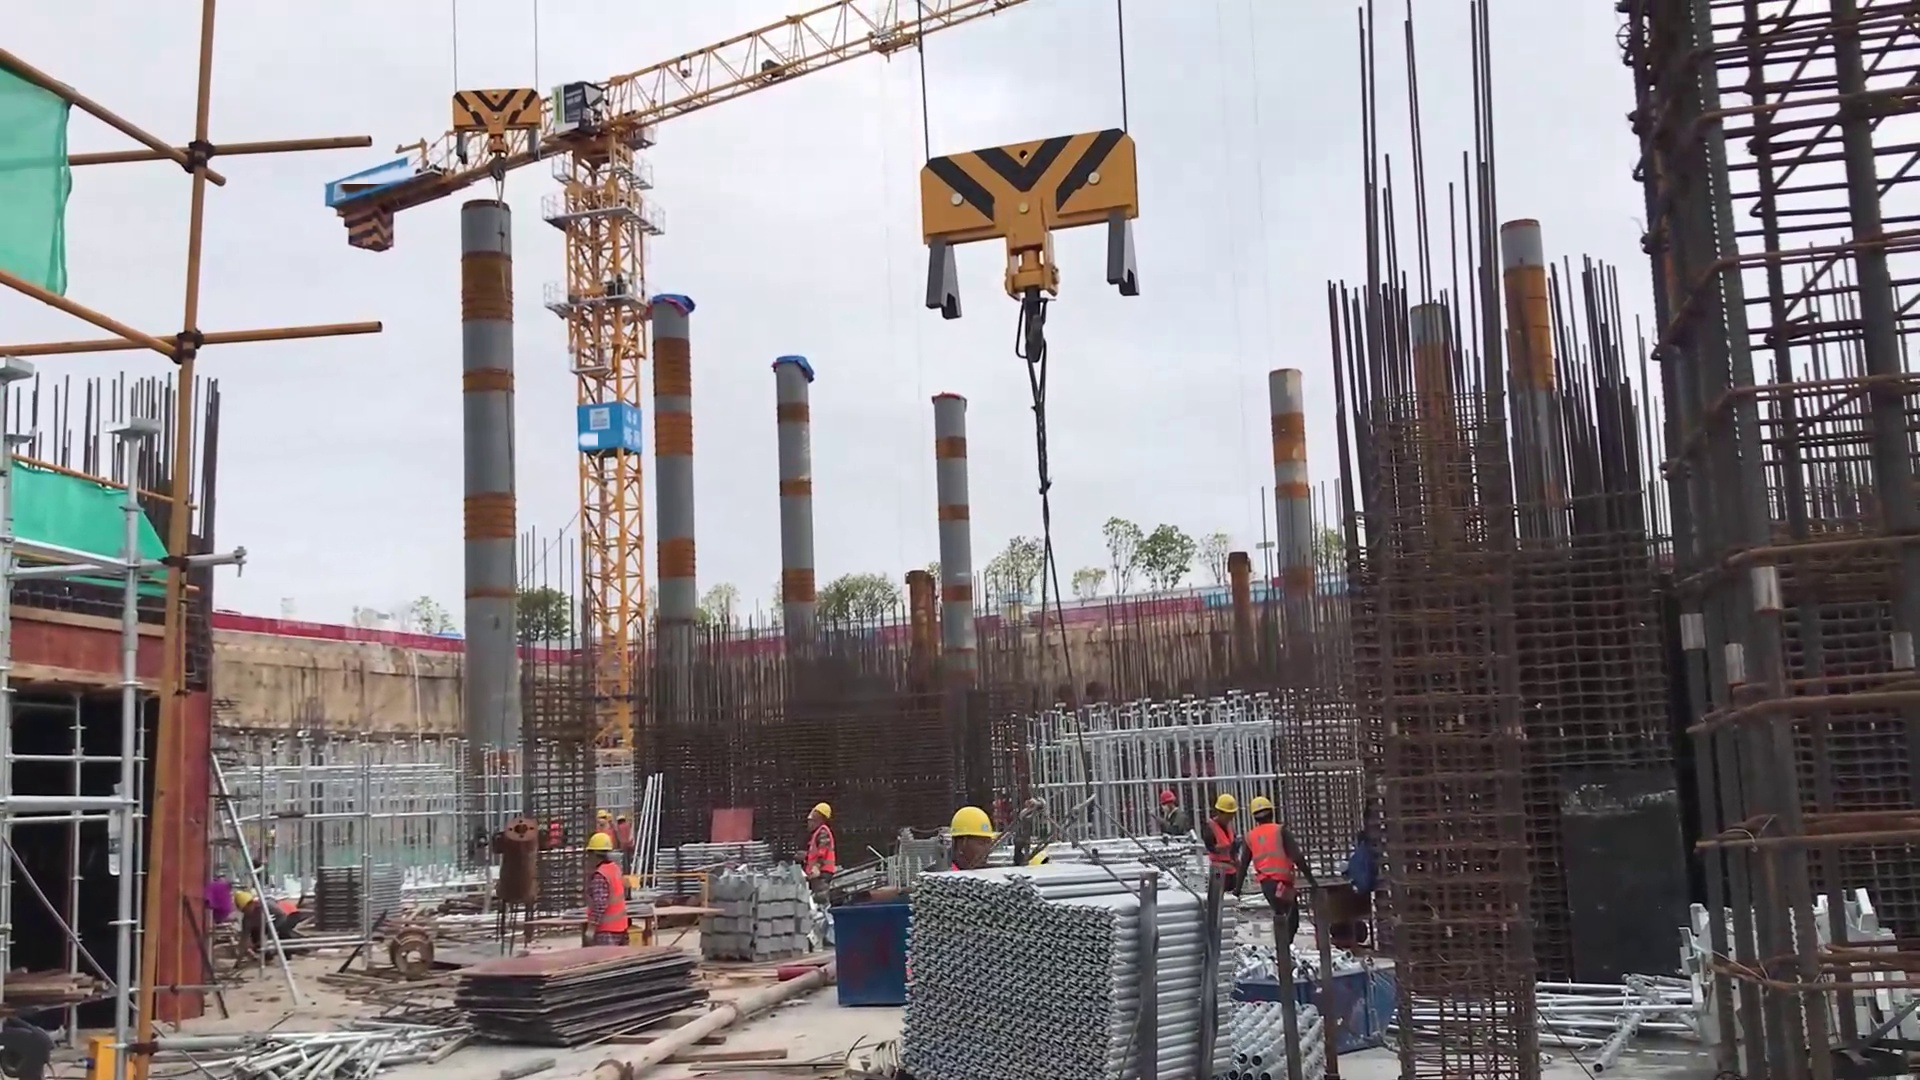board: (443, 924, 712, 1039)
helmet: (947, 803, 1004, 846), (1204, 785, 1273, 812), (811, 789, 856, 831), (583, 829, 629, 861)
hook: (919, 126, 1152, 368), (432, 76, 585, 192)
hopper: (1220, 929, 1416, 1049)
person: (1200, 783, 1320, 943), (571, 811, 642, 954), (798, 788, 855, 908)
scaffold: (886, 851, 1250, 1080)
